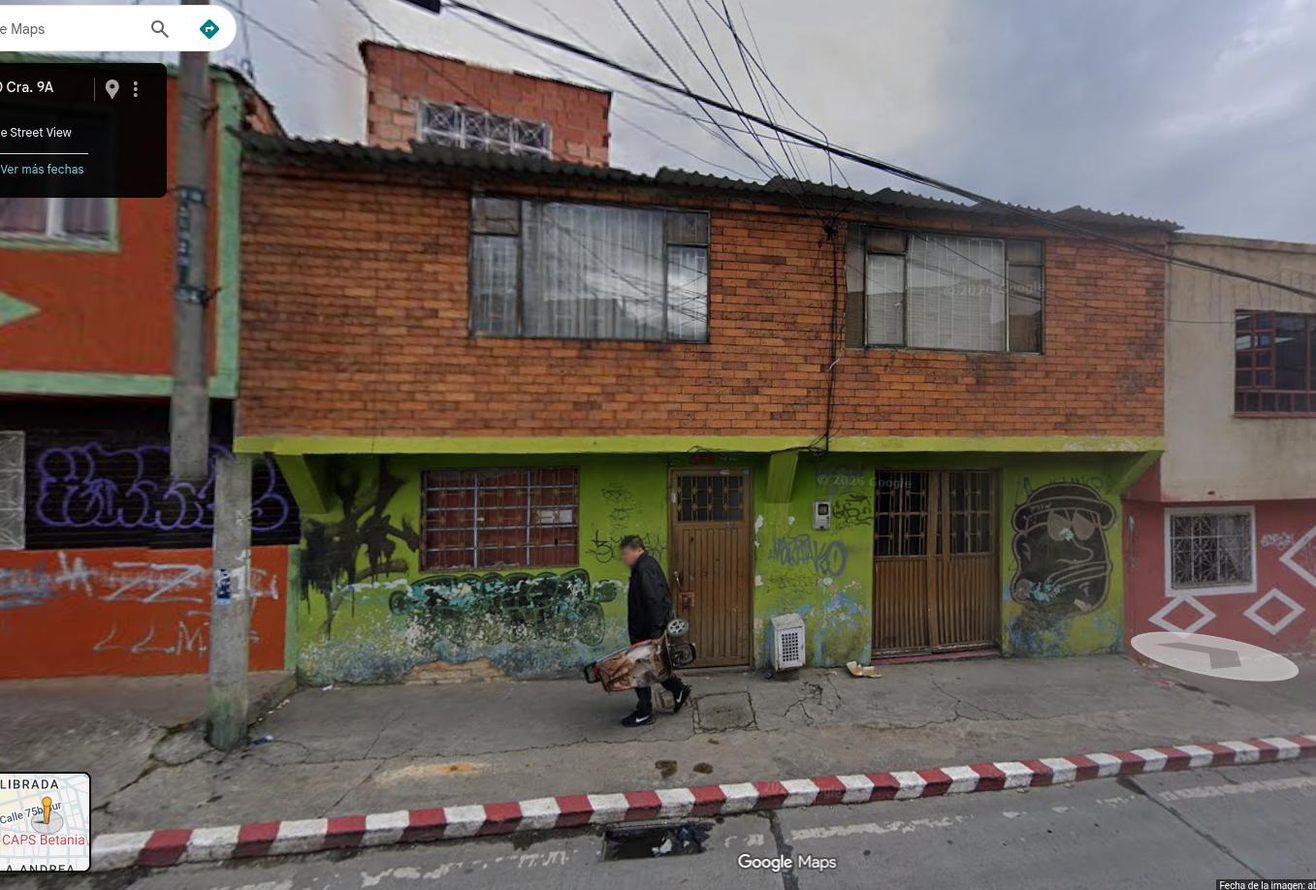casa: (235, 44, 1177, 682), (1120, 267, 1315, 652), (1170, 233, 1315, 291)
poste: (170, 51, 215, 481), (208, 455, 254, 748)
